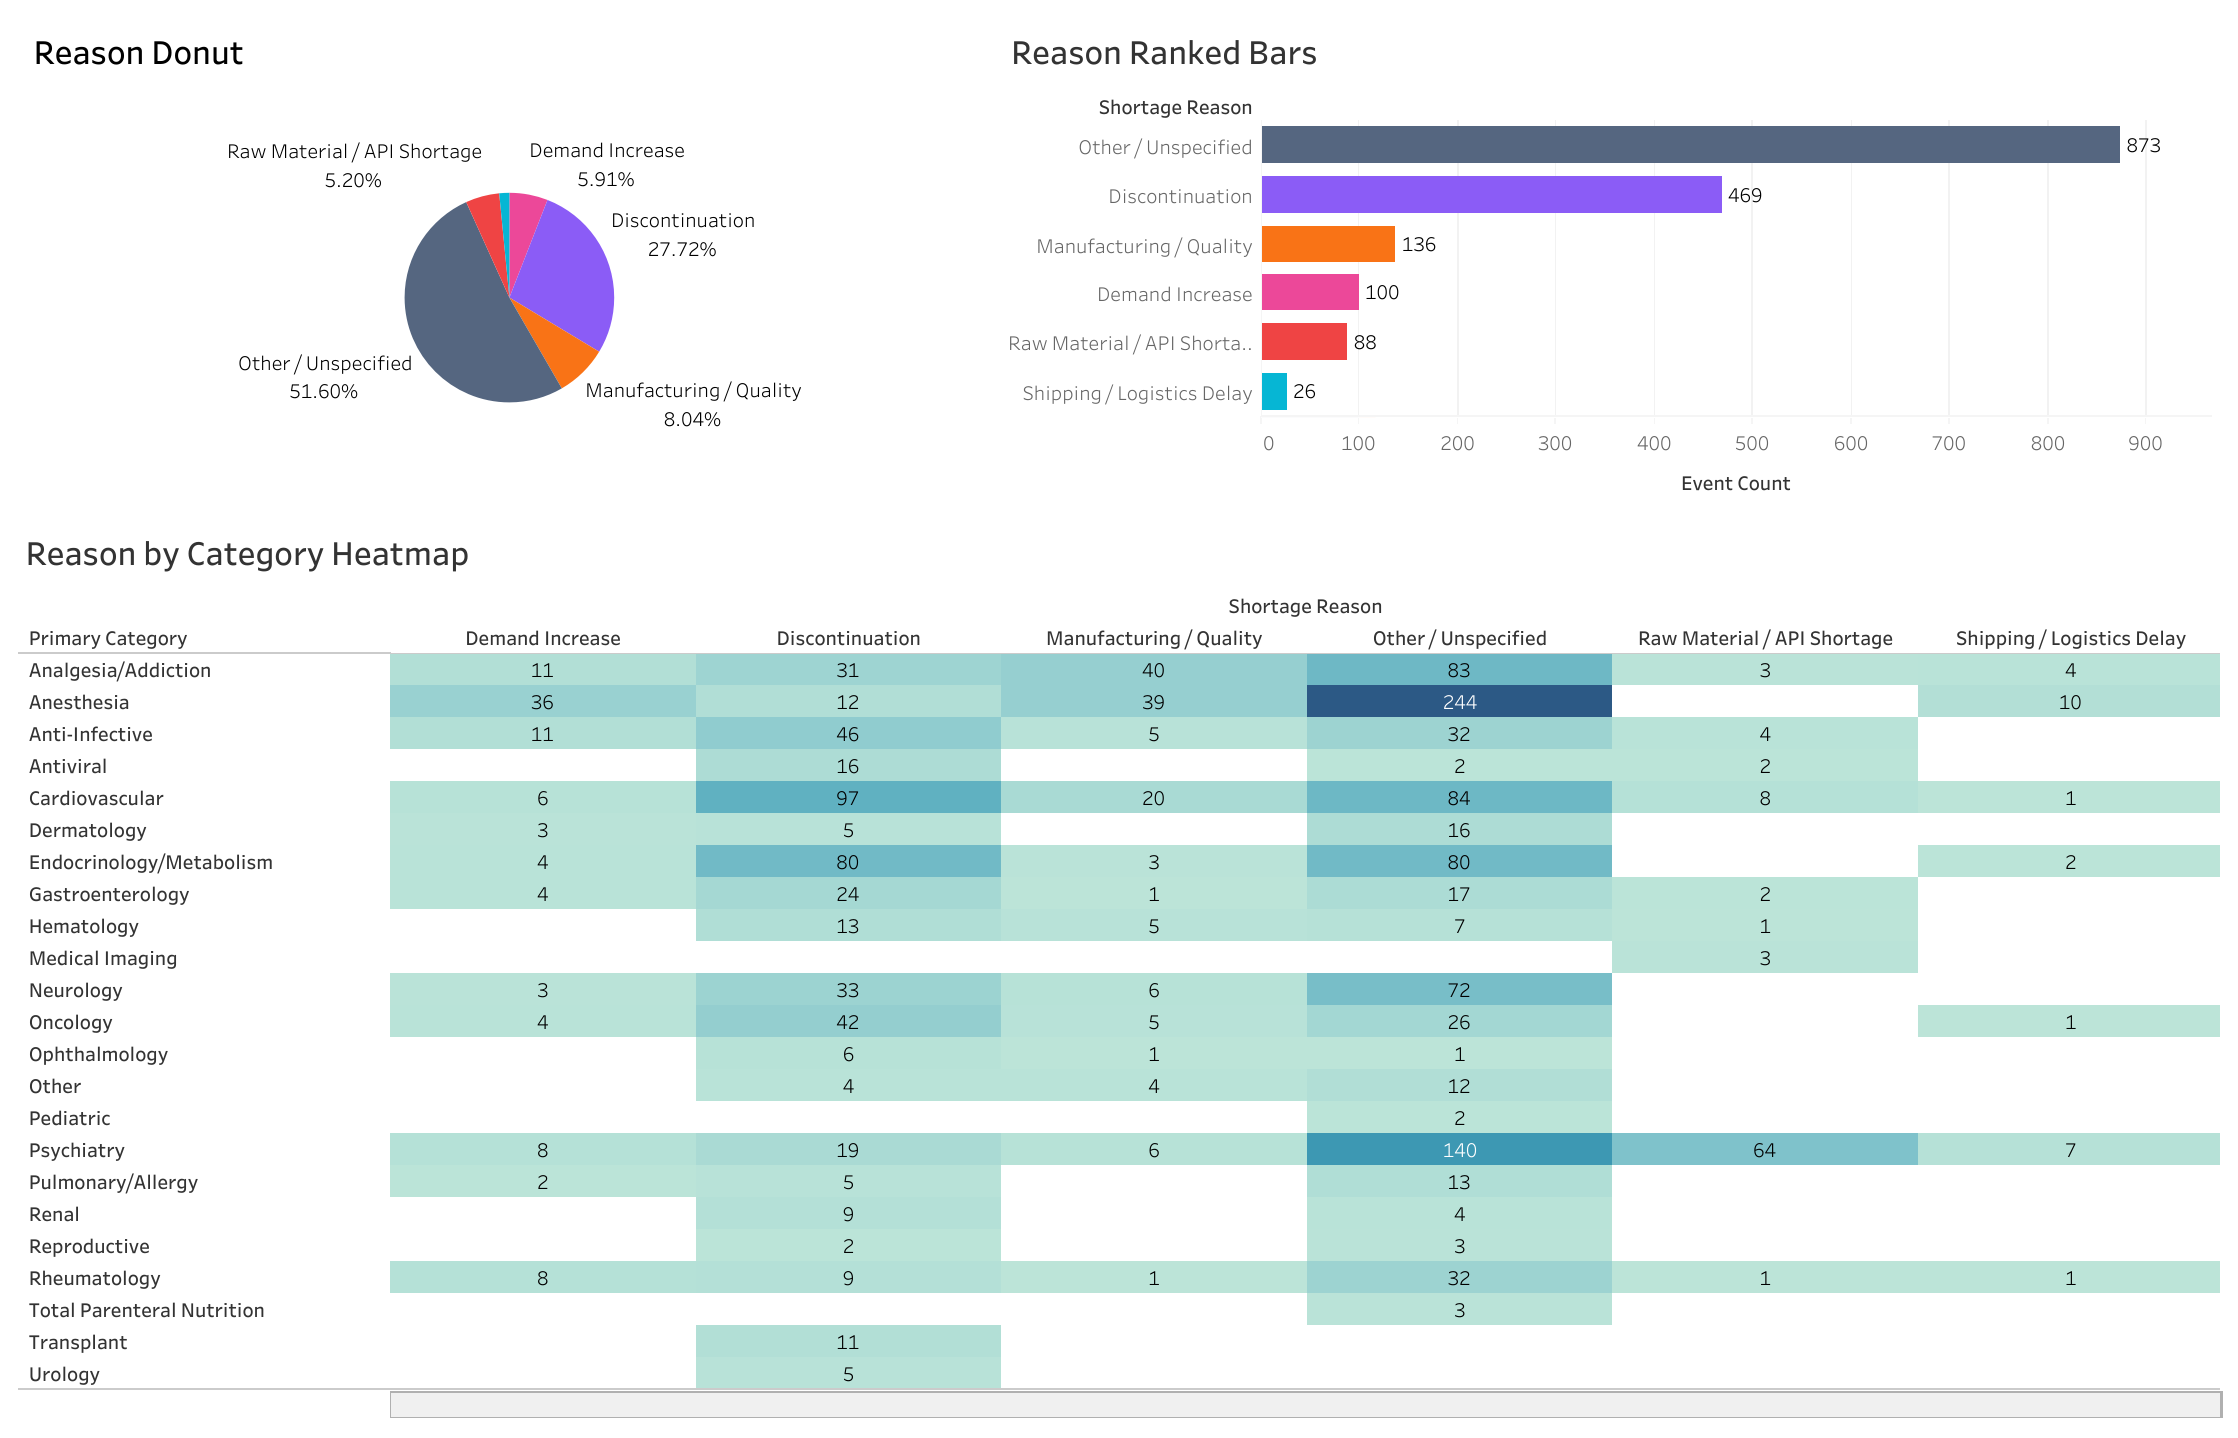

What the dashboard file says about the page in this screenshot:
{"tool":"tableau","page":{"name":"Shortage Causes","canvas":[1000,800],"ordinal":3},"visuals":[{"type":"worksheet","title":"Reason Donut","mark":"Pie","box":[9,7,491,278]},{"type":"worksheet","title":"Reason Ranked Bars","mark":"Bar","rows":["shortage_reason"],"cols":["Calculation_2637138095022082"],"box":[500,7,490,278]},{"type":"worksheet","title":"Reason by Category Heatmap","mark":"Square","rows":["primary_category"],"cols":["shortage_reason"],"box":[6,285,989,513]}]}

Visuals, with their boxes on the page's 1000x800 design canvas (x1, y1, x2, y2). These are canvas units, not pixel positions in the 2238x1438 screenshot, which may show the page scaled, cropped or inside an application window:
"Reason Donut" worksheet (Pie marks): box=[9, 7, 500, 285]
"Reason Ranked Bars" worksheet (Bar marks): box=[500, 7, 990, 285]
"Reason by Category Heatmap" worksheet (Square marks): box=[6, 285, 995, 798]
